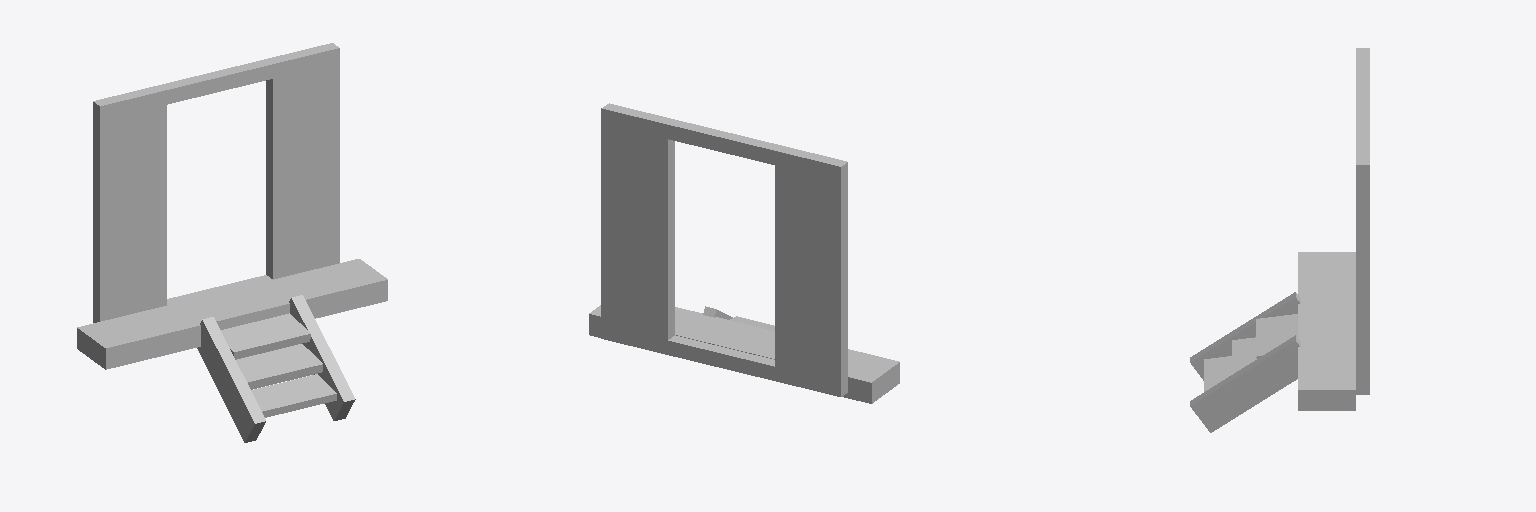
The model's file is backsideLP.obj.
The picture shows the model from 3 angles: view 1: azimuth 30°, elevation 25°; view 2: azimuth 150°, elevation 25°; view 3: azimuth 270°, elevation 25°; orthographic projection.
Visible parts, largest first — view 1: pCube75, pCube54, stairs polySurface62, stairs polySurface330, polySurface60 stairs, stairs polySurface326, stairs polySurface59; view 2: pCube75, pCube54; view 3: pCube54, pCube75, stairs polySurface326, stairs polySurface62, stairs polySurface330, stairs polySurface59, polySurface60 stairs.
Part boxes in pixels (left/top/right/bottom): pCube75: left=93, top=43, right=339, bottom=322; pCube54: left=77, top=259, right=387, bottom=369; stairs polySurface62: left=197, top=317, right=265, bottom=442; stairs polySurface330: left=221, top=313, right=310, bottom=359; polySurface60 stairs: left=236, top=344, right=322, bottom=389; stairs polySurface326: left=289, top=295, right=355, bottom=420; stairs polySurface59: left=251, top=374, right=336, bottom=417; pCube75: left=601, top=103, right=847, bottom=396; pCube54: left=589, top=305, right=899, bottom=403; pCube54: left=1298, top=252, right=1355, bottom=410; pCube75: left=1356, top=48, right=1369, bottom=394; stairs polySurface326: left=1190, top=335, right=1300, bottom=432; stairs polySurface62: left=1190, top=292, right=1300, bottom=380; stairs polySurface330: left=1256, top=314, right=1297, bottom=358; stairs polySurface59: left=1204, top=356, right=1231, bottom=391; polySurface60 stairs: left=1232, top=337, right=1256, bottom=374.
Size of the model in its own units: 8.27 by 8.42 by 4.55.